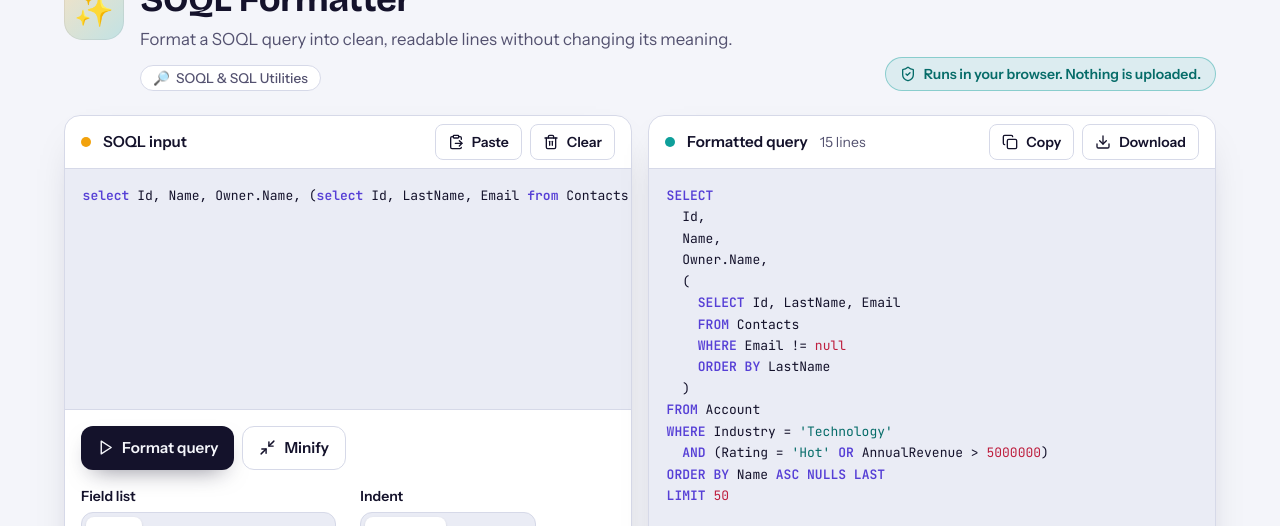
Test: SOQL formatter page › formats, minifies and reports structural errors
Replace the text in the text box named "SOQL input" with "select Id, Name from Account where Name != null": [348, 289] box x1=65 y1=169 x2=631 y2=409
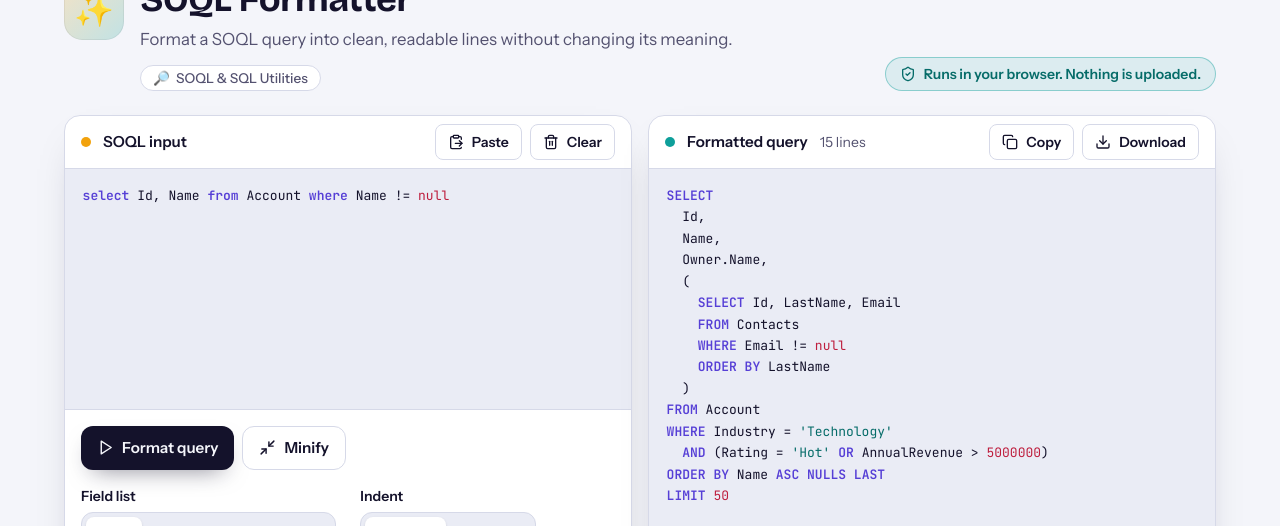
Click the button "Format query": [158, 448] box x1=81 y1=426 x2=234 y2=470
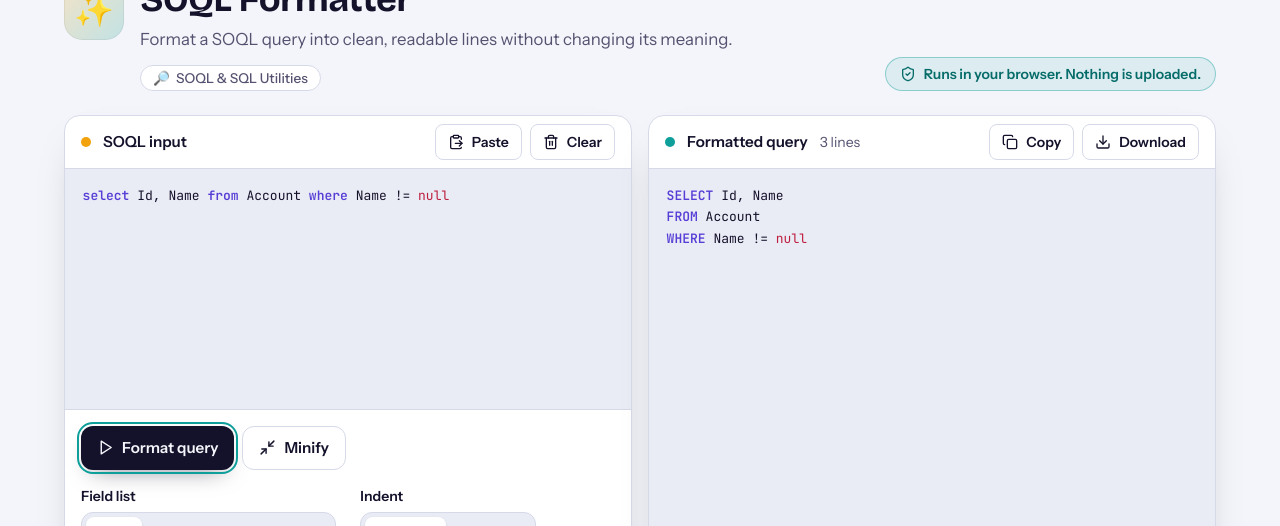
Click the button "Minify": [294, 448] box x1=242 y1=426 x2=346 y2=470
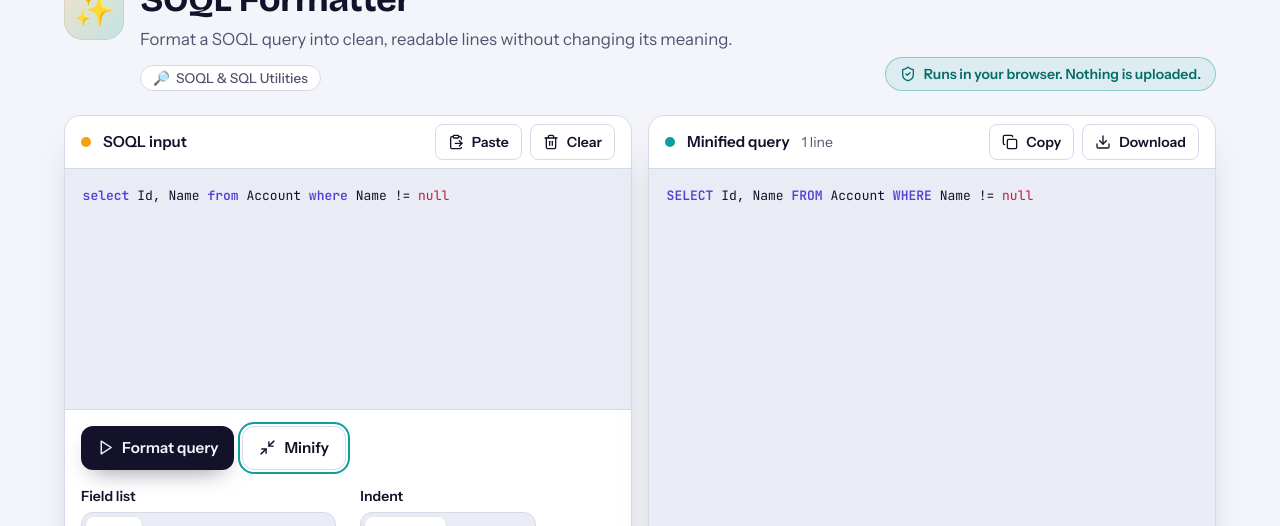
Expected: the element showing "SELECT Id, Name FROM Account WHERE Name != null" is shown, x1=667 y1=187 x2=1033 y2=204
Replace the text in the text box named "SOQL input" with "select Id from": [348, 289] box x1=65 y1=169 x2=631 y2=409
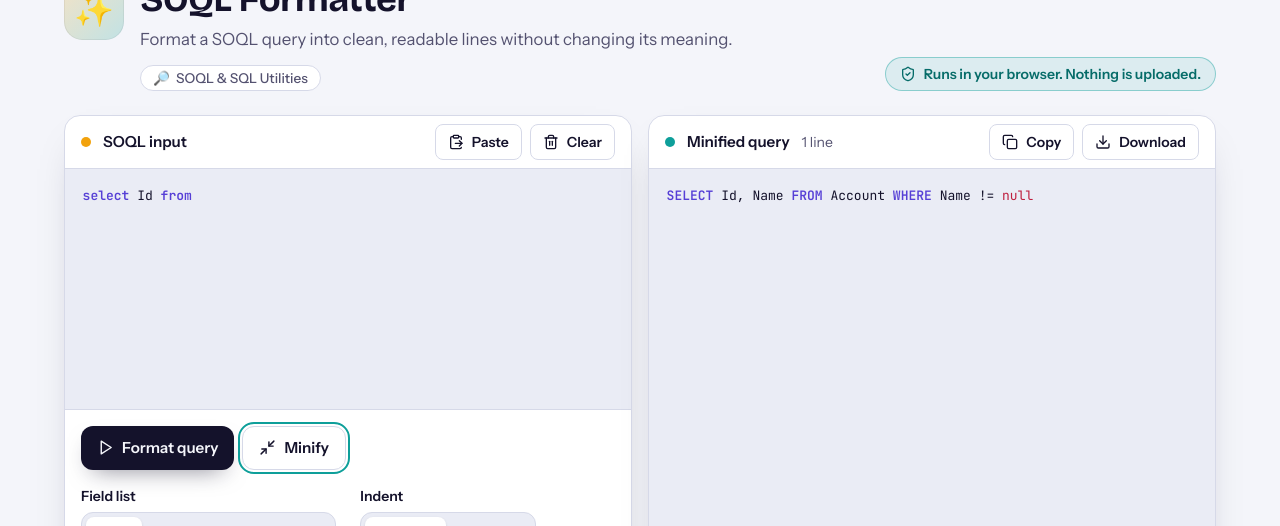
Click the button "Format query": [158, 448] box x1=81 y1=426 x2=234 y2=470
(page scrolled)
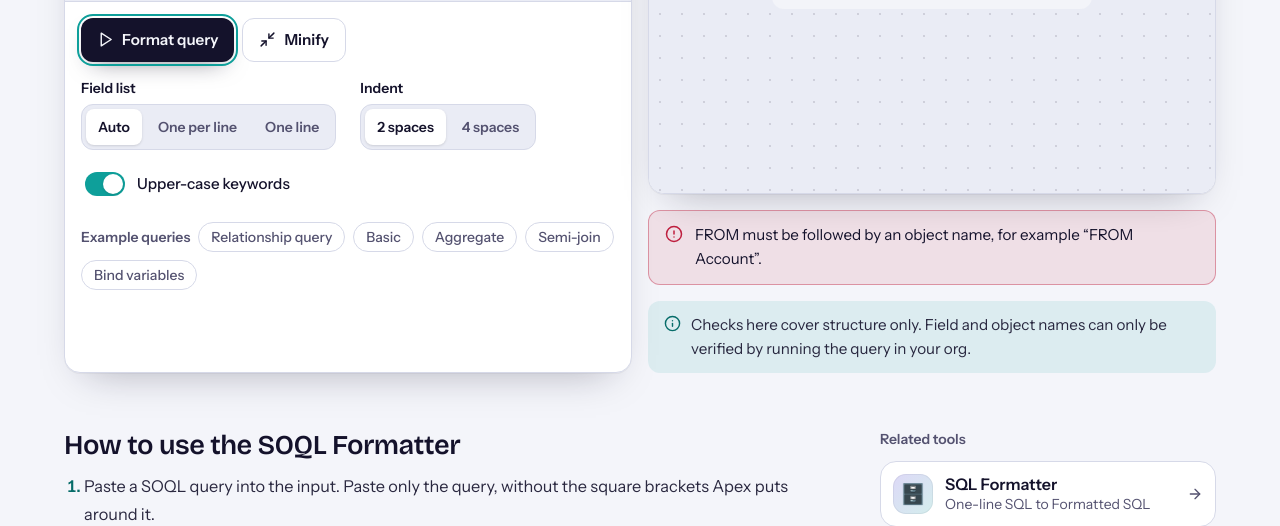
Expected: the message shows "FROM must be followed by an object name", x1=695 y1=225 x2=1133 y2=268
